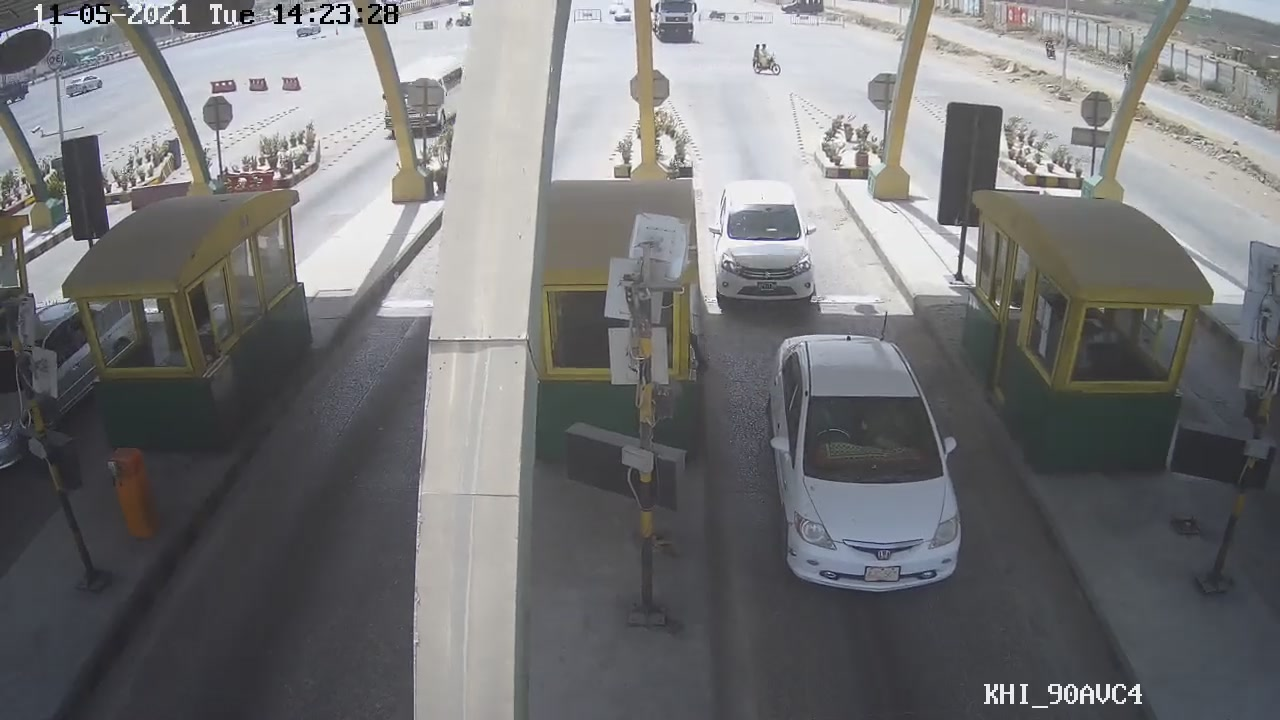F1: (759, 326, 967, 598), (704, 178, 819, 309)
